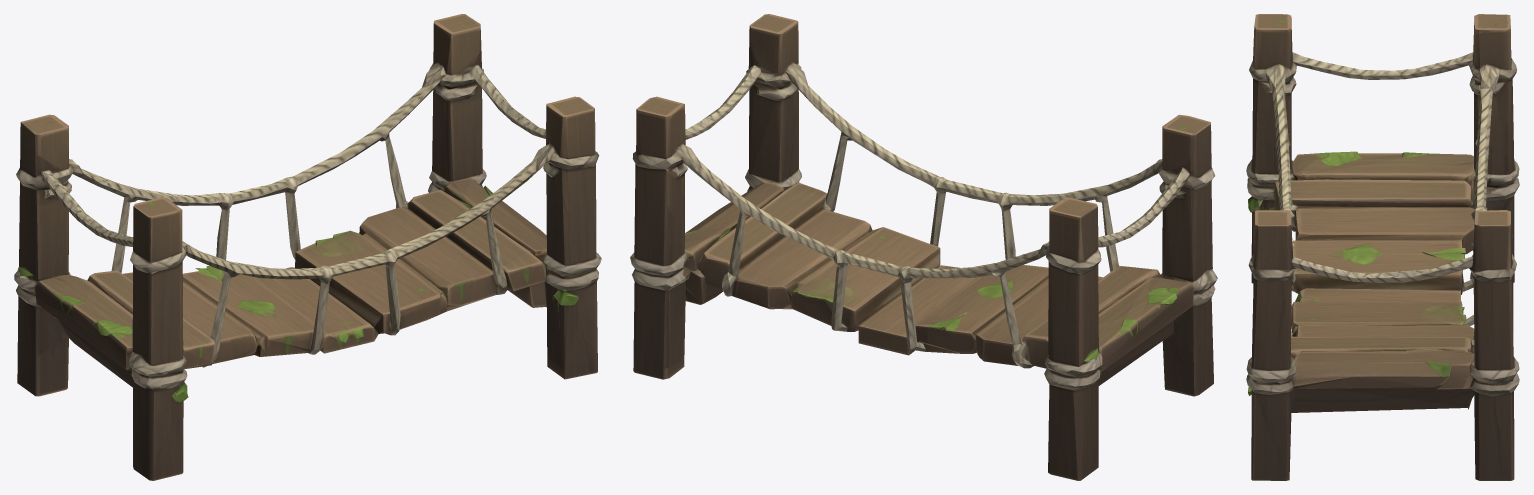
Rendered from rope_bridge.glb.
The picture shows the model from 3 angles, left to right: view 1: azimuth 30°, elevation 25°; view 2: azimuth 150°, elevation 25°; view 3: azimuth 270°, elevation 25°; orthographic projection. The views are drawn at different scales.
Visible parts, largest first — view 1: rope_bridge; view 2: rope_bridge; view 3: rope_bridge.
Part boxes in pixels (x1,y1,x2,y2): rope_bridge: (14, 14, 601, 480); rope_bridge: (630, 14, 1217, 480); rope_bridge: (1246, 14, 1519, 480).
Size of the model in its own units: 5.6 by 3 by 2.92.
Materials: 1 (1 with a texture image).
